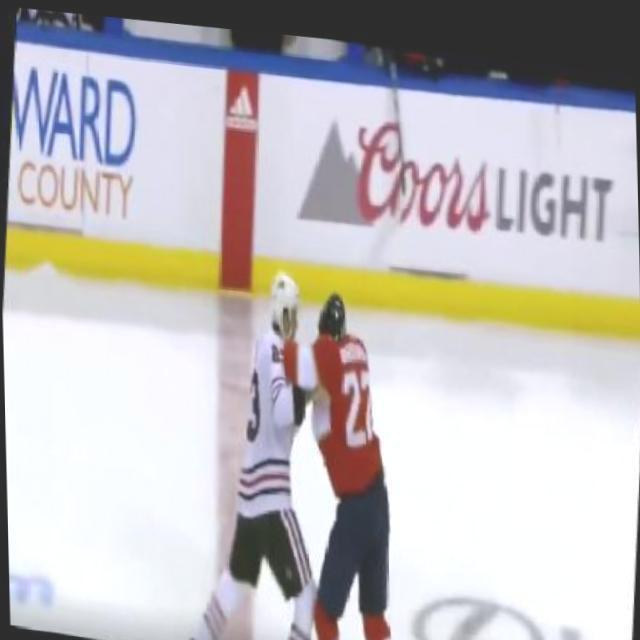fight: (200, 254, 429, 640)
